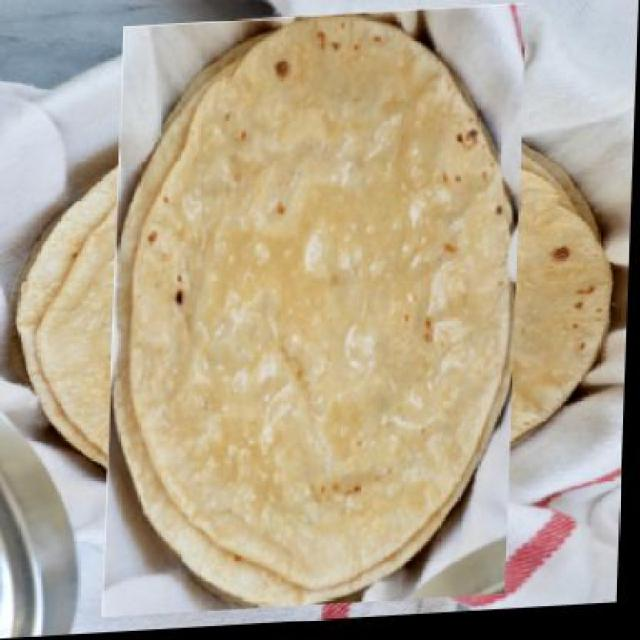chapati: (61, 54, 574, 575)
